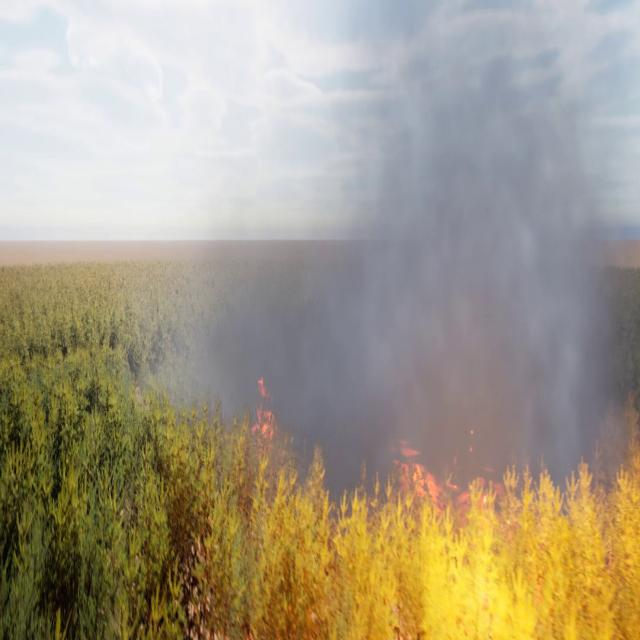fire: (314, 460, 640, 639), (395, 433, 534, 515), (250, 374, 276, 441)
smoke: (136, 1, 638, 507)
